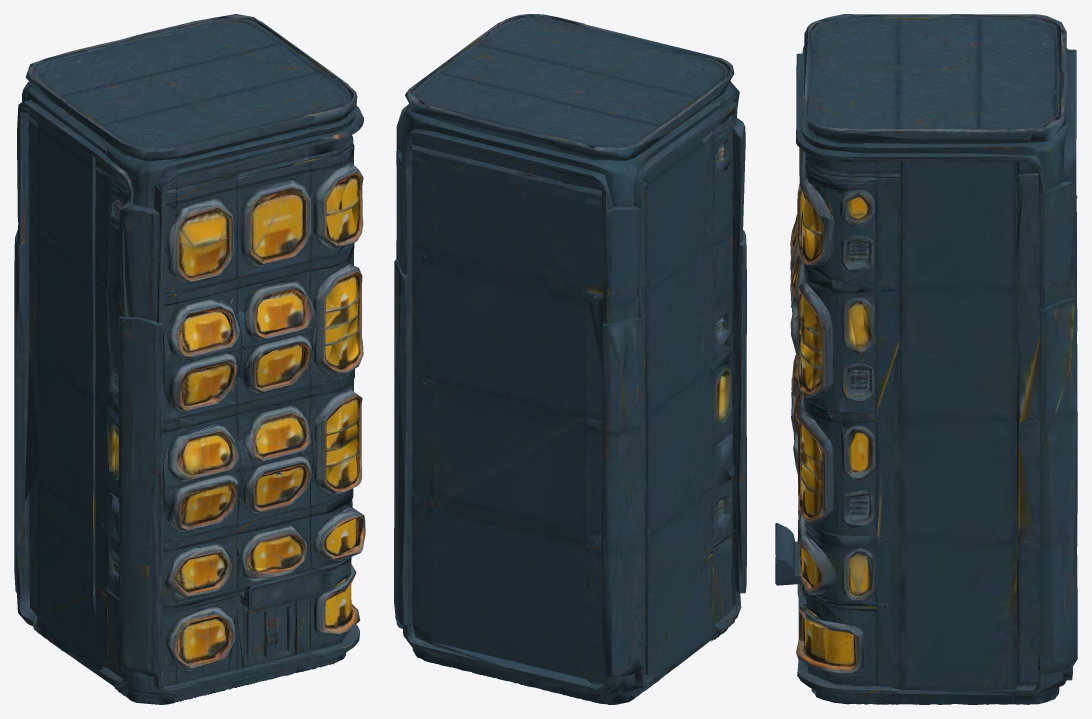
Rendered from mx_bld_capsule_hotel.glb.
3 renders of one model, left to right at view 1: azimuth 30°, elevation 25°; view 2: azimuth 150°, elevation 25°; view 3: azimuth 270°, elevation 25°, orthographic. The views are drawn at different scales.
Bounding box in the file's own units: 0.8805 × 1.9 × 0.9009.
1 material, 1 textured.
